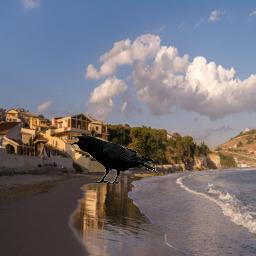Crow: (71, 135, 157, 185)
